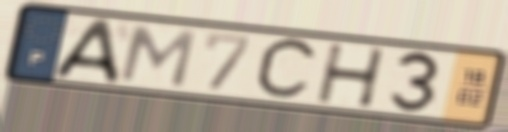3: (383, 49, 445, 116)
7: (201, 30, 254, 94)
A: (49, 17, 123, 85)
C: (251, 35, 323, 104)
H: (314, 43, 389, 110)
M: (115, 23, 200, 90)
